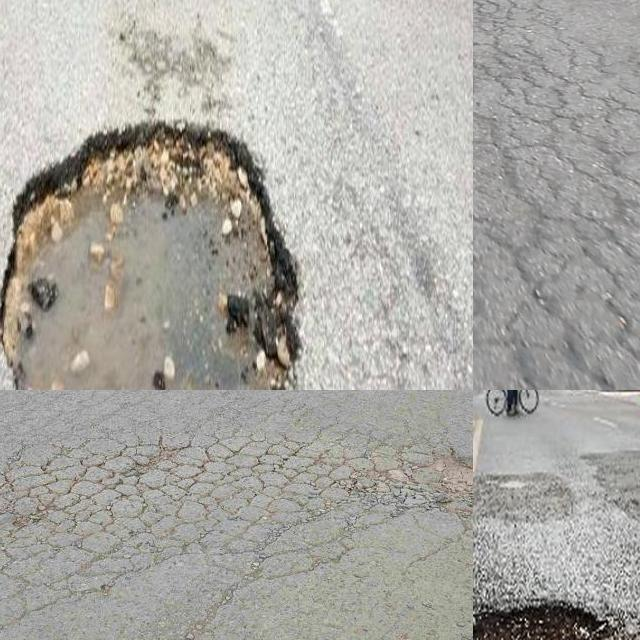Lubang: (0, 122, 289, 390), (473, 601, 618, 640)
Retak Buaya: (473, 0, 640, 390), (0, 426, 423, 578)
